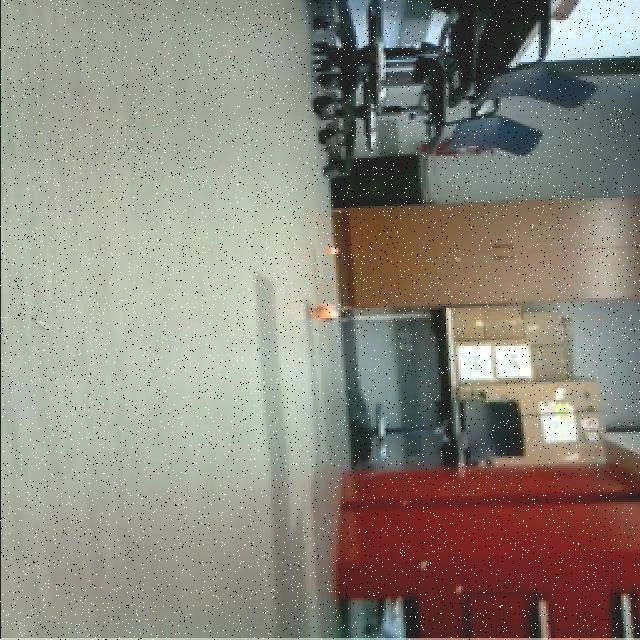ping-pong-ball: (304, 298, 339, 328), (320, 241, 344, 261)
